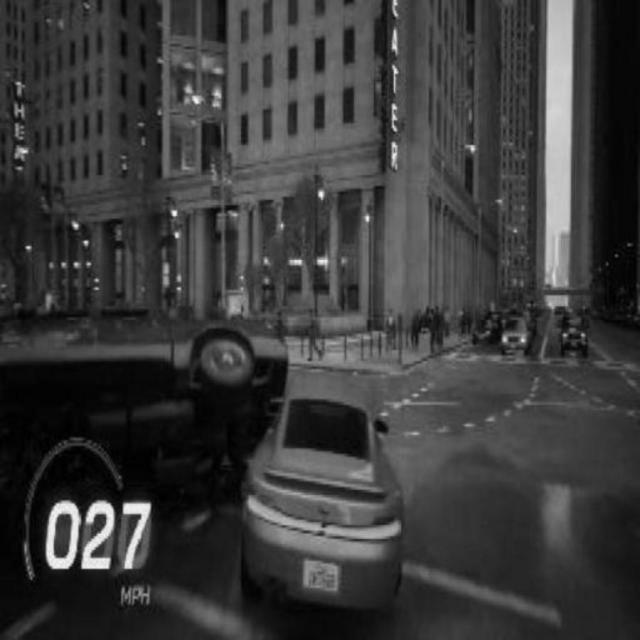accident: (4, 318, 404, 616)
person: (298, 303, 328, 360)
vehicle: (556, 312, 596, 360), (497, 315, 533, 359)
